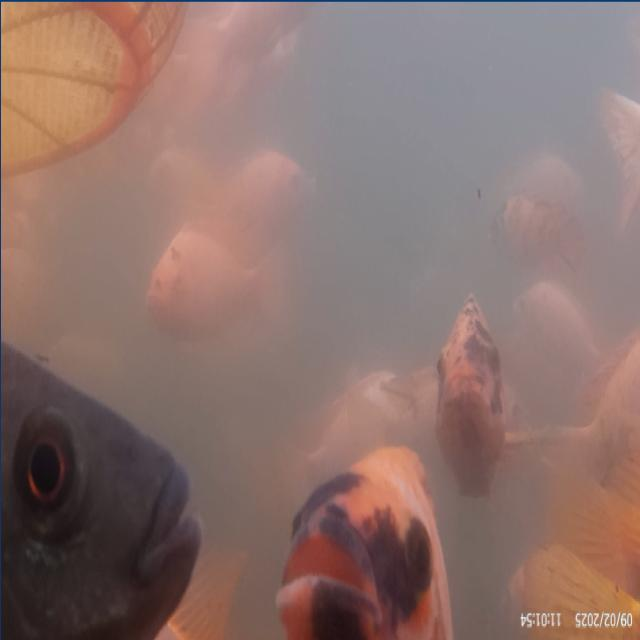ikan: (12, 332, 210, 624), (266, 438, 453, 629), (428, 294, 523, 486)
